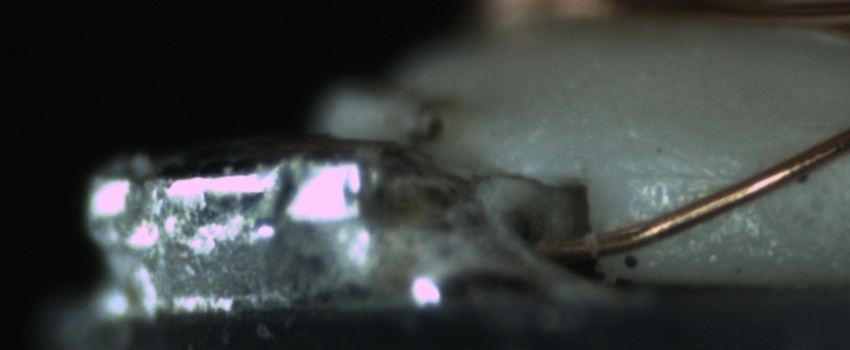DL: (632, 147, 752, 206)
